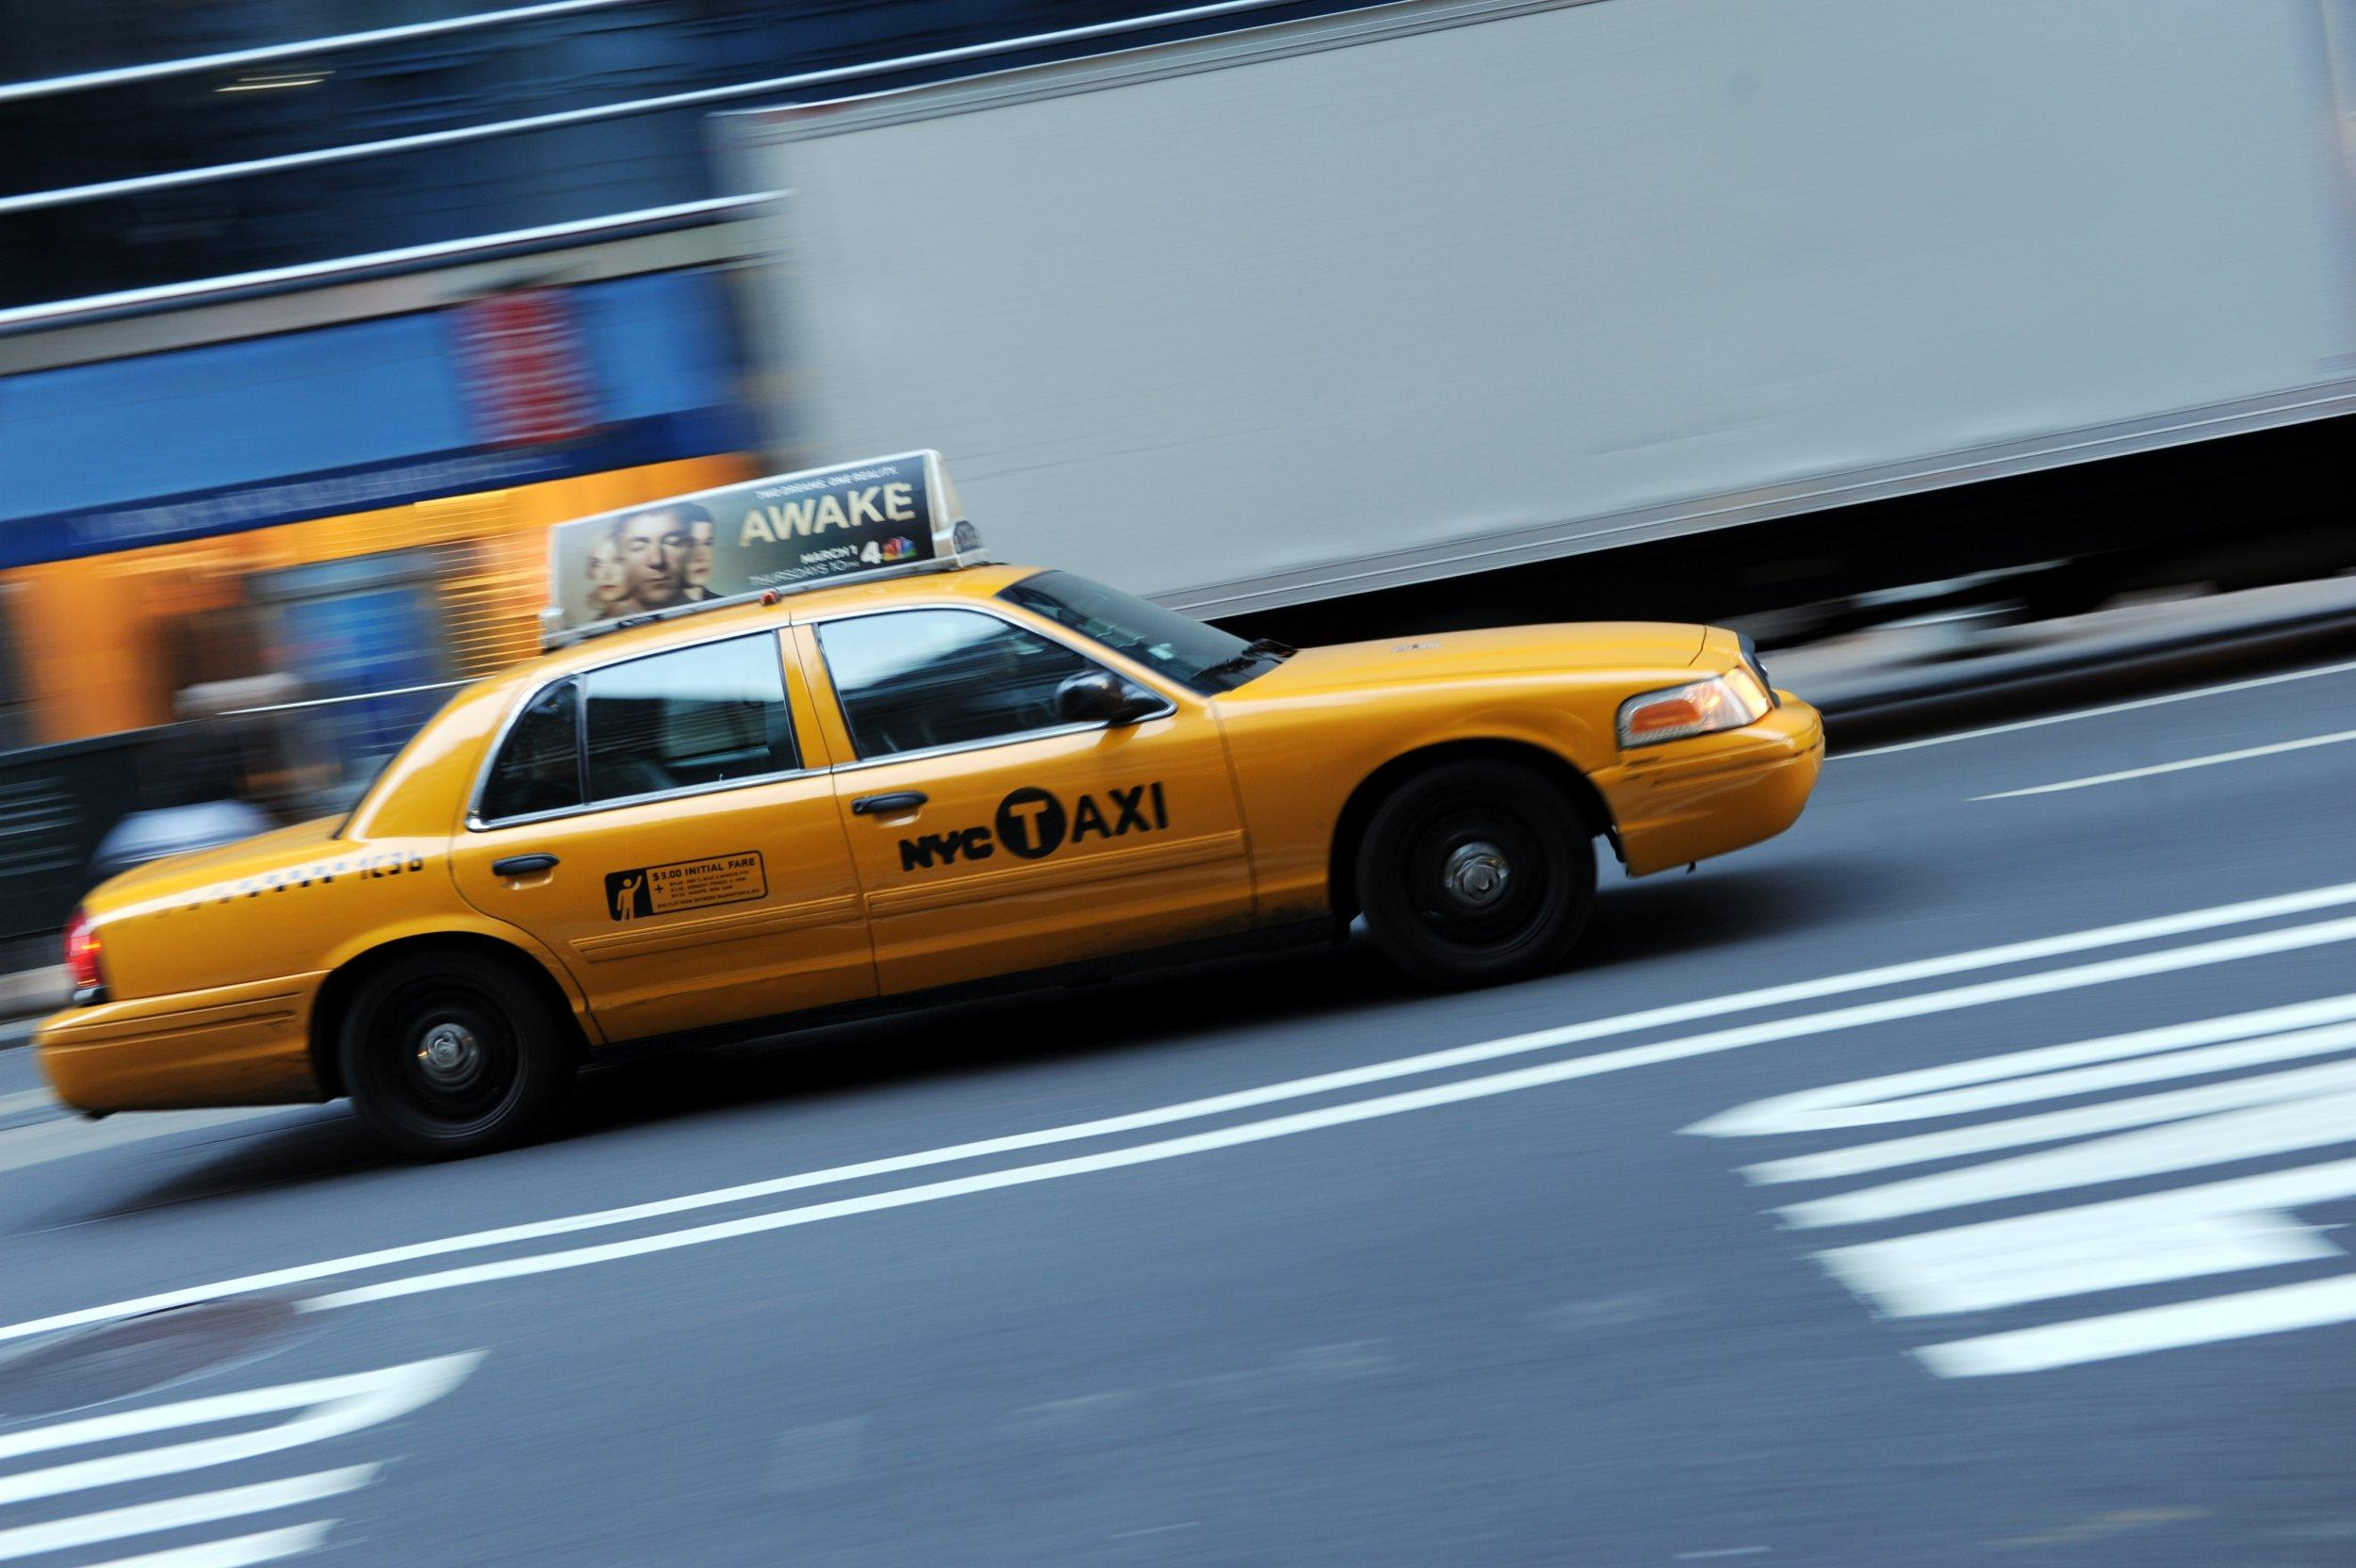taxi: (2, 520, 1827, 1143)
